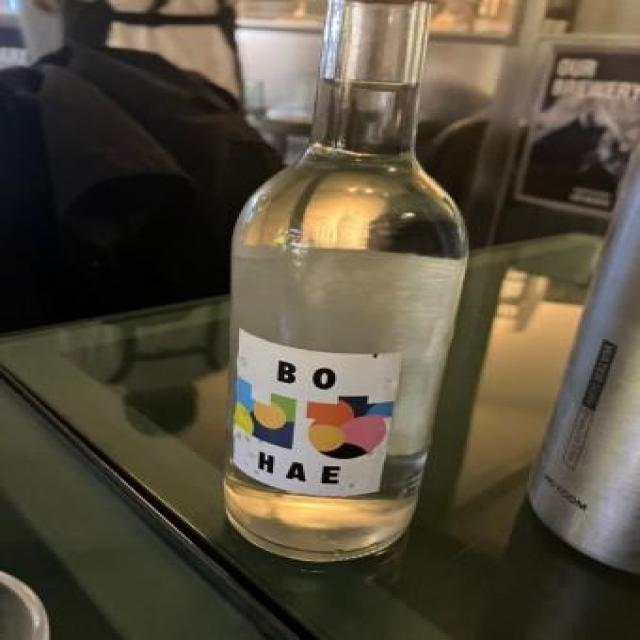soju-bottle: (218, 2, 471, 566)
